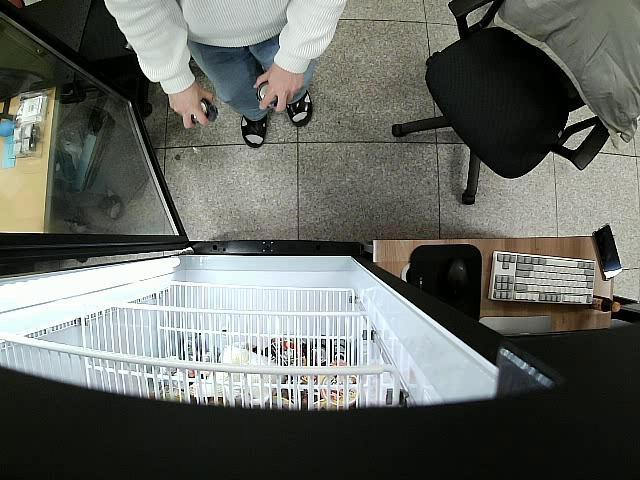14_welchsGrape: (253, 78, 280, 110), (192, 98, 220, 128)
